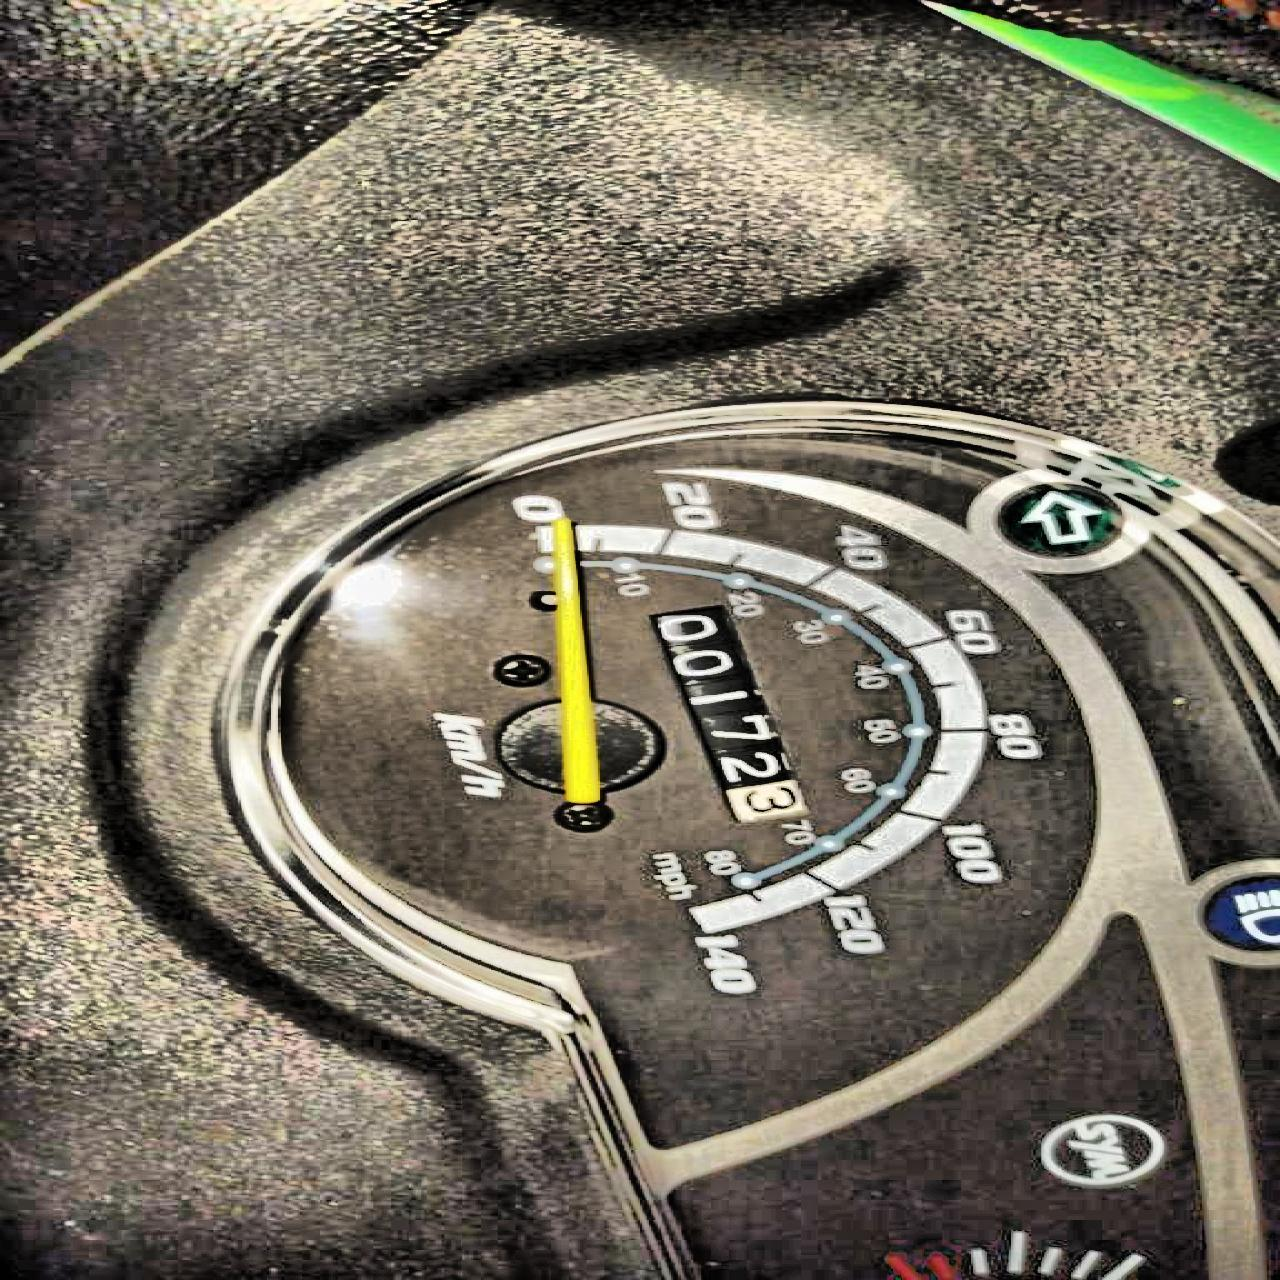0: (649, 610, 719, 642), (665, 647, 734, 678), (796, 629, 826, 642), (731, 604, 764, 615)
1: (680, 688, 751, 708)
2: (709, 749, 778, 782)
3: (737, 783, 802, 813), (791, 618, 822, 631)
7: (707, 714, 771, 744)
odometer: (638, 606, 824, 823)
